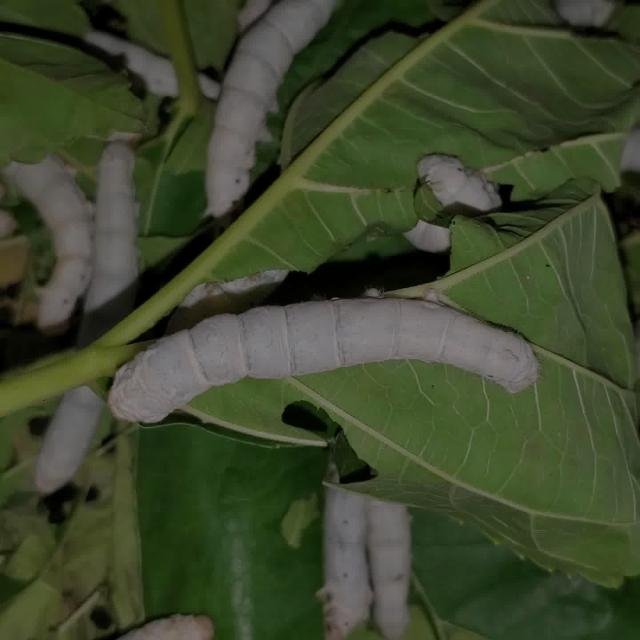Healthy: (98, 286, 546, 436)
